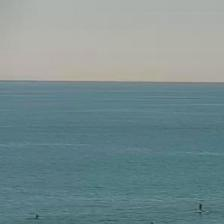surfer: (34, 213, 40, 218), (198, 204, 202, 210), (150, 222, 154, 223)
